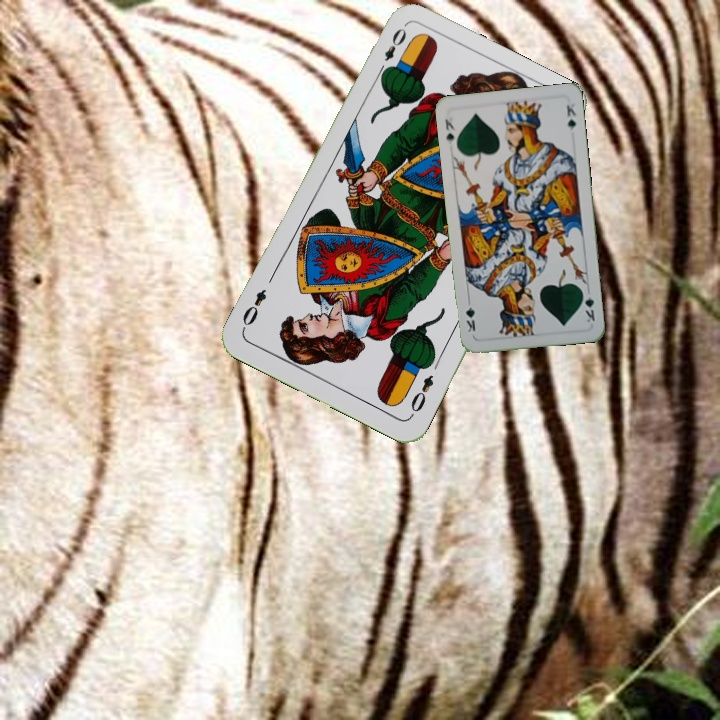EO: (374, 24, 409, 78), (406, 370, 436, 420)
GK: (578, 286, 597, 325), (441, 115, 458, 147)
